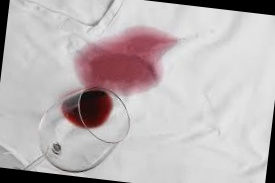wine: (73, 26, 176, 98)
